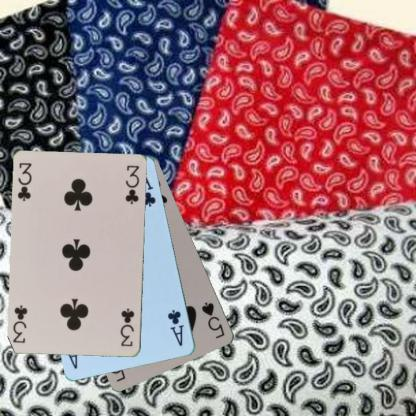3c: (16, 160, 34, 203), (118, 306, 136, 348)
5s: (199, 299, 226, 340)
Ac: (166, 307, 186, 348)
